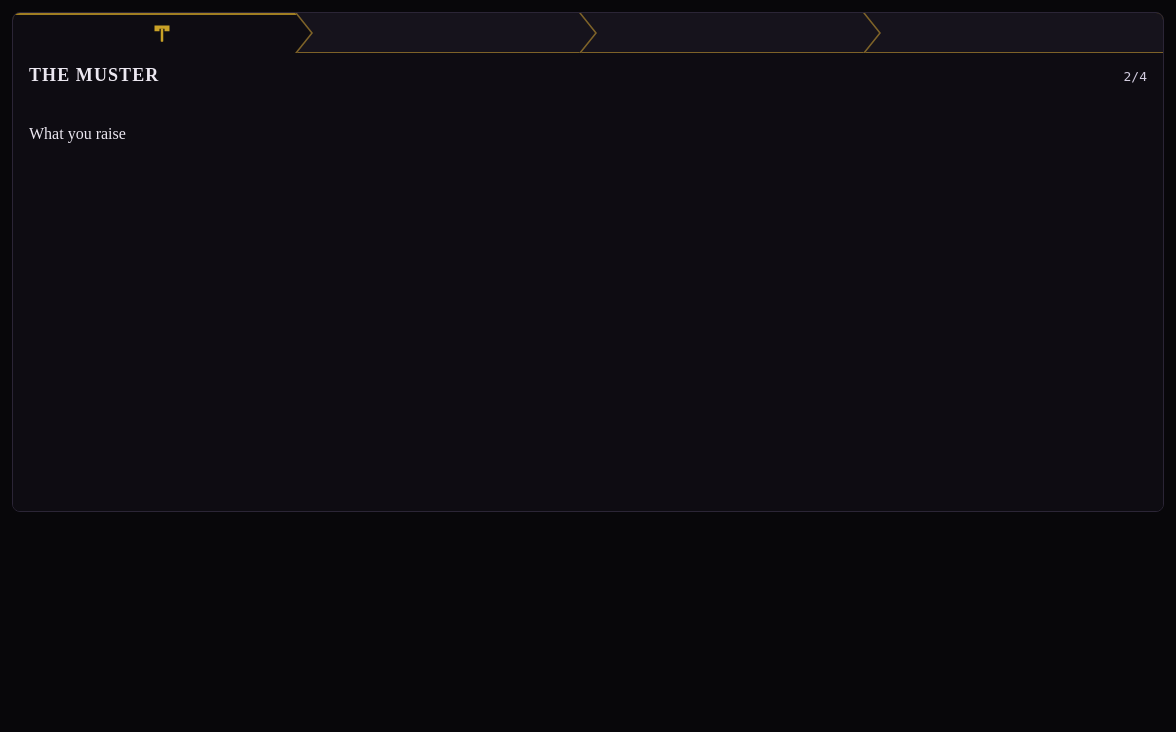
Test: Deck › jumps to the first tab on Home
Click the 3rd tab named "Deeds": point(730, 33) top-left (581, 13), bottom-right (879, 53)
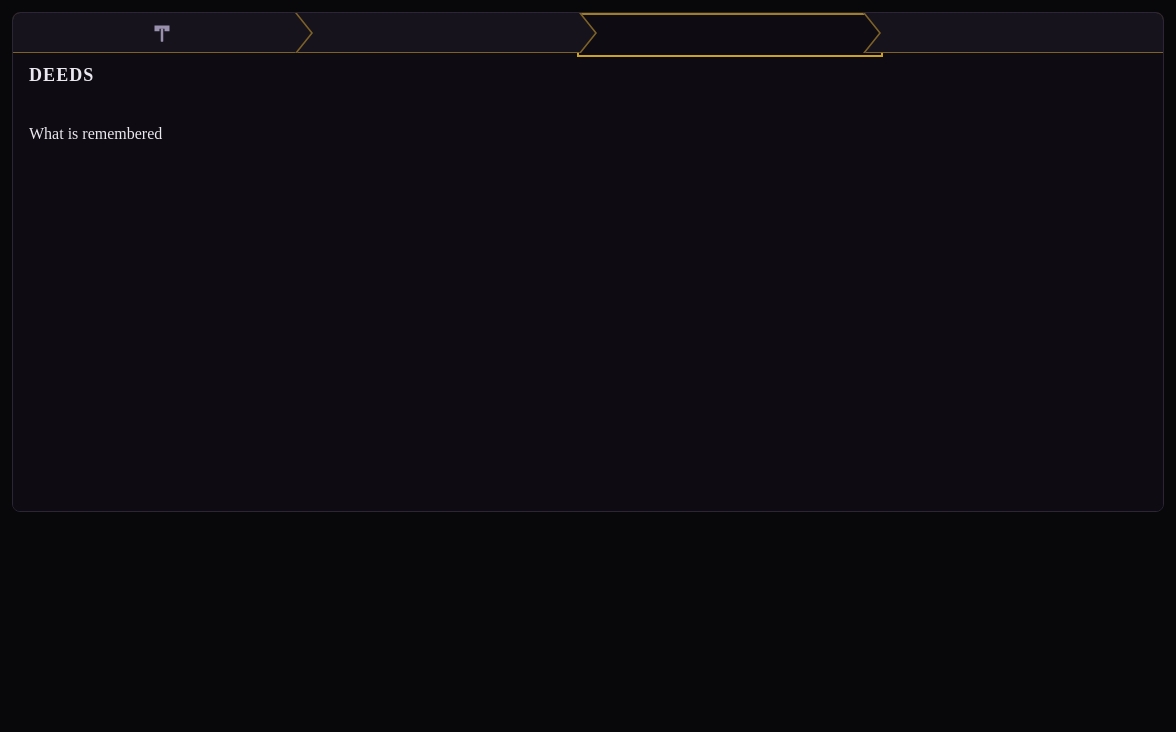
Press Home
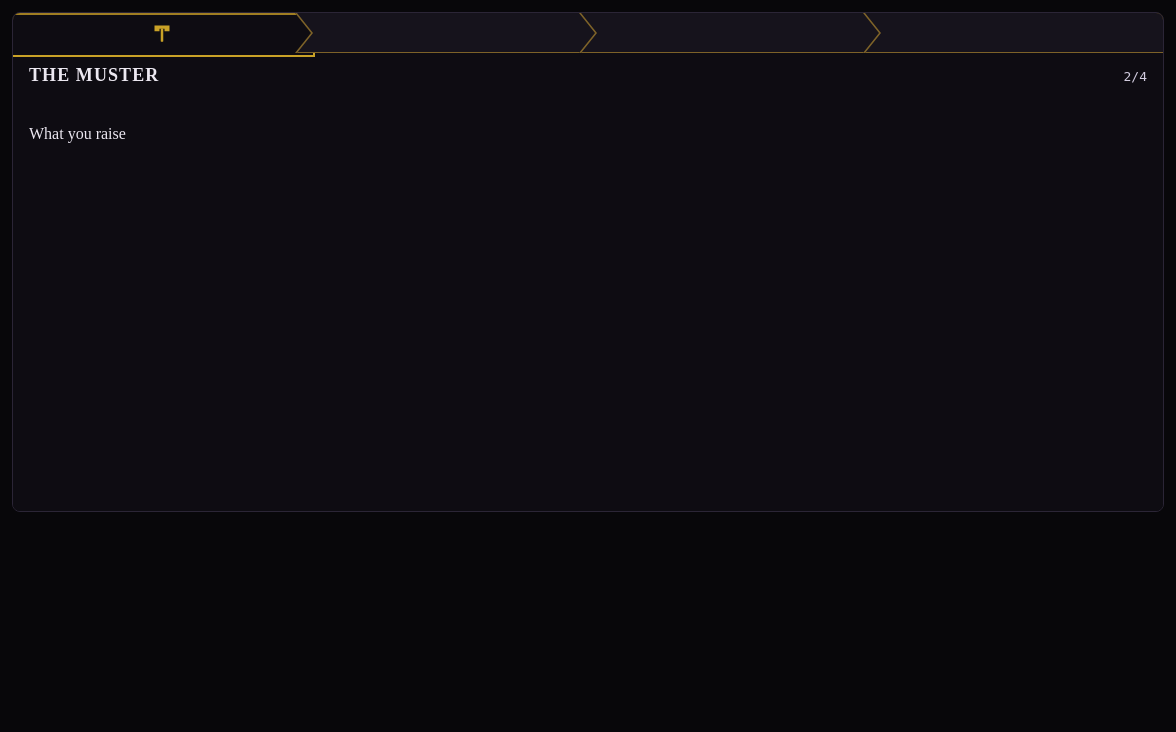
Expected: the panel named "The Muster" is shown, top-left (29, 125), bottom-right (126, 142)
